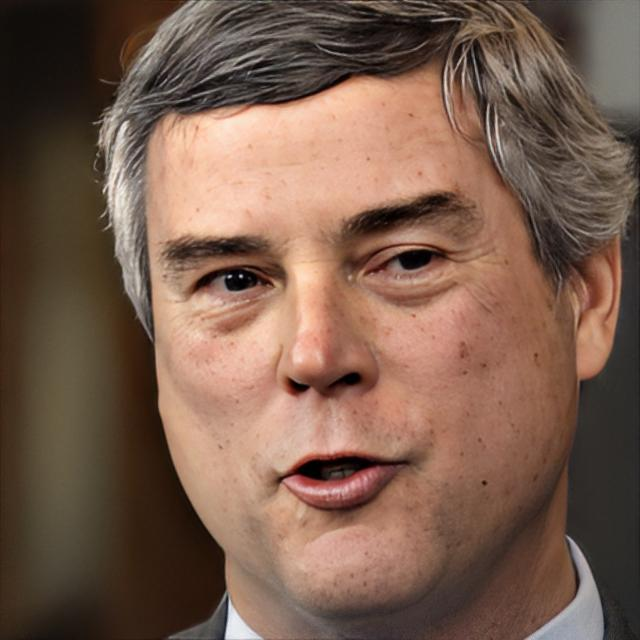neutral: (148, 52, 569, 632)
